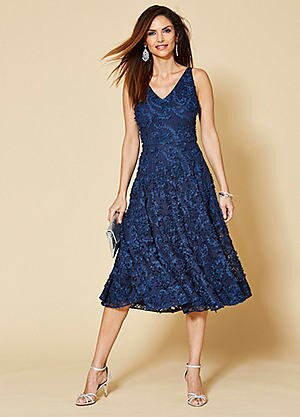S_dress: (107, 74, 242, 312)
